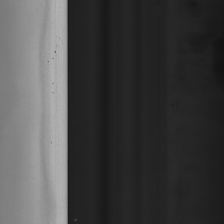inclusion: (46, 55, 54, 64), (52, 44, 59, 54), (51, 79, 54, 96)
